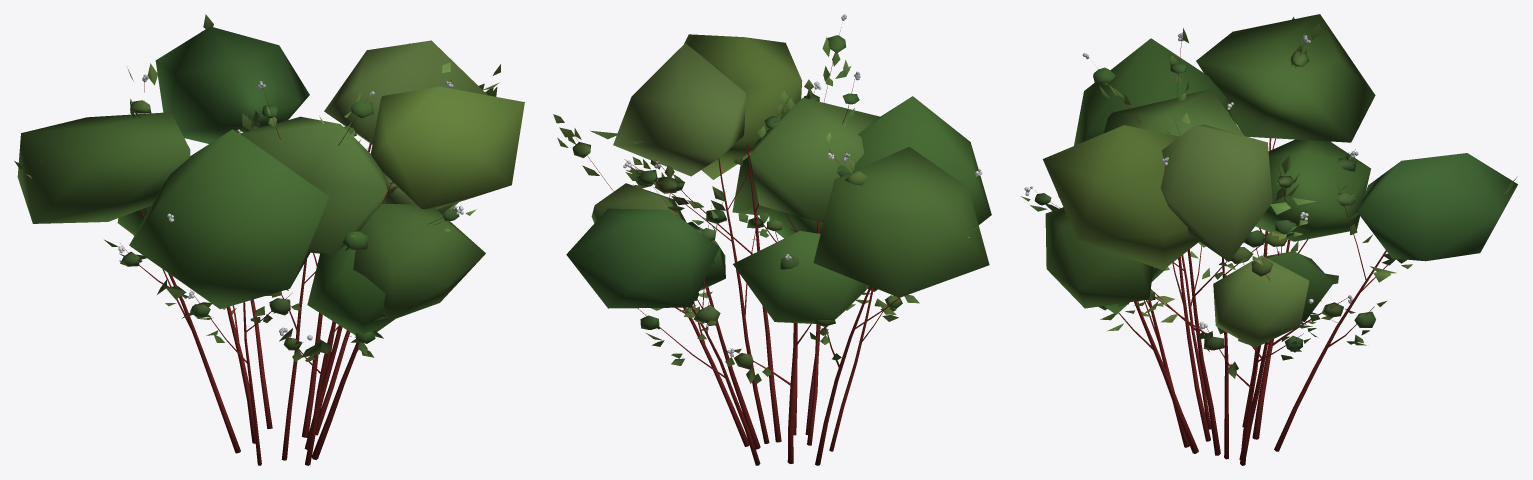
File: red-osier.glb
3 renders of one model, left to right at view 1: azimuth 30°, elevation 25°; view 2: azimuth 150°, elevation 25°; view 3: azimuth 270°, elevation 25°, orthographic. The views are drawn at different scales.
Parts seen in each view (by area): view 1: red-osier-lo, red-osier; view 2: red-osier-lo, red-osier; view 3: red-osier-lo, red-osier.
Boxes of the visible parts, bbox=[...] form: red-osier-lo: bbox=[17, 26, 524, 465]; red-osier: bbox=[14, 14, 500, 465]; red-osier-lo: bbox=[566, 34, 991, 465]; red-osier: bbox=[553, 14, 982, 465]; red-osier-lo: bbox=[1043, 14, 1517, 465]; red-osier: bbox=[1020, 17, 1517, 465].
Size of the model in its own units: 3.25 by 2.7 by 3.04.
